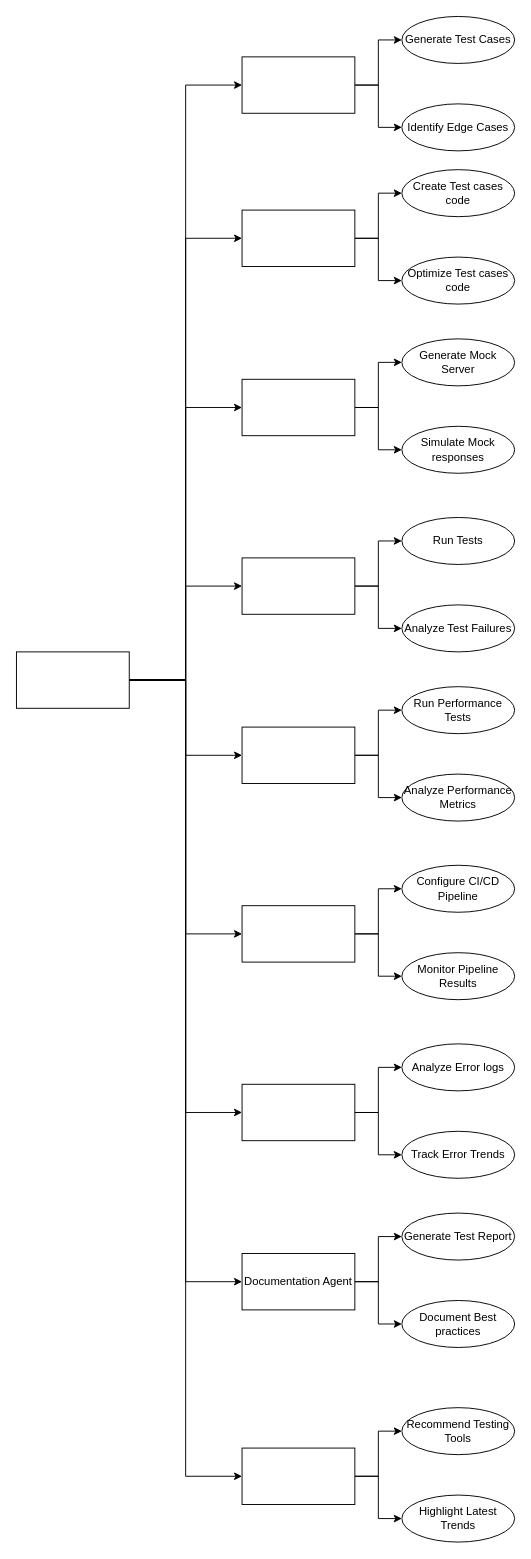
Some shapes in this 531 by 1559 pixel diagram are drawn without their labels. The shapes that lost their labels are listed below. From the top down, each one's box as (x1, y1, x2, y2) in pixels, then its label:
(241, 56, 355, 113): Test Design Agent
(241, 209, 355, 266): Test Automation Agent
(241, 378, 355, 436): Mocking Agent
(241, 557, 355, 614): Test Execution Agent
(16, 651, 129, 708): CrewAI
(241, 726, 355, 783): Performance Testing Agent
(241, 905, 355, 962): CI/CD Agent
(241, 1083, 355, 1141): Error Monitoring Agent
(241, 1447, 355, 1504): Tool Recommendation Agent
